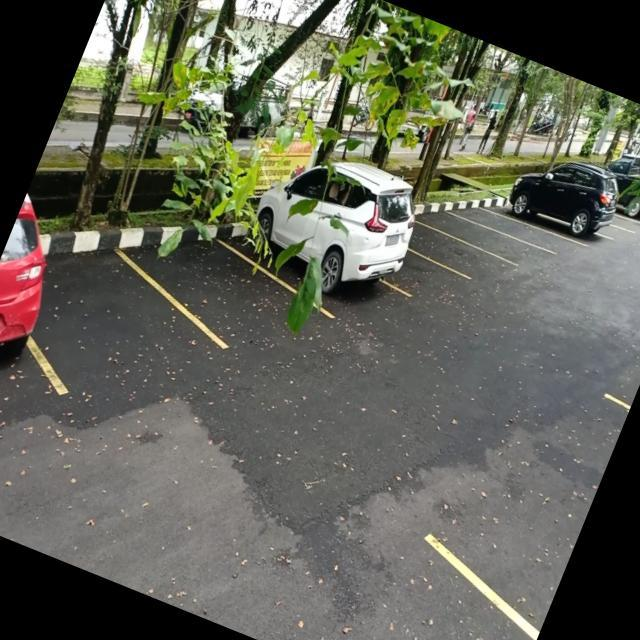empty: (20, 238, 206, 412), (132, 222, 298, 356), (426, 204, 542, 270), (469, 200, 577, 260), (406, 222, 498, 285)
occupied: (216, 180, 413, 327), (499, 170, 616, 256)
